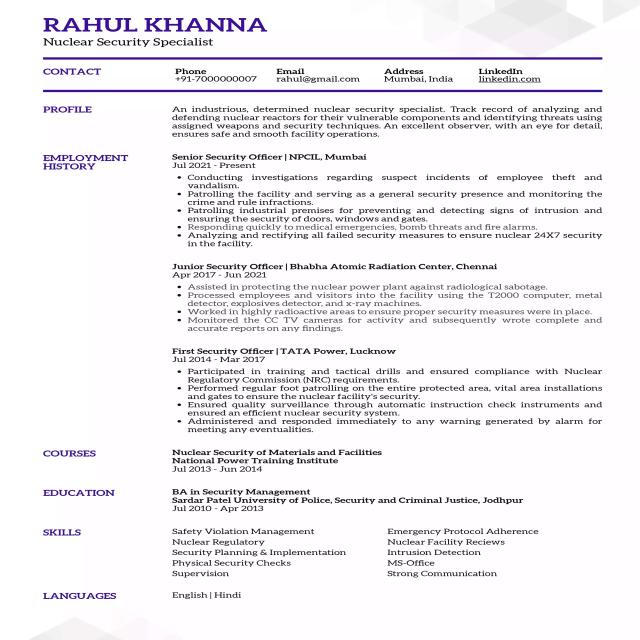contact: (47, 59, 554, 92)
education: (35, 444, 565, 525)
experience: (36, 150, 611, 433)
header: (38, 13, 274, 52)
languages: (40, 588, 262, 606)
skills: (40, 528, 547, 585)
summary: (40, 97, 614, 146)
